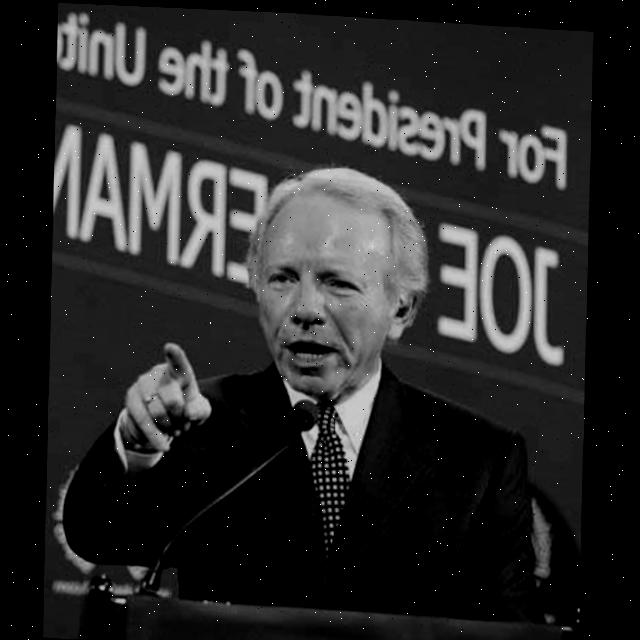face: (236, 187, 424, 409)
